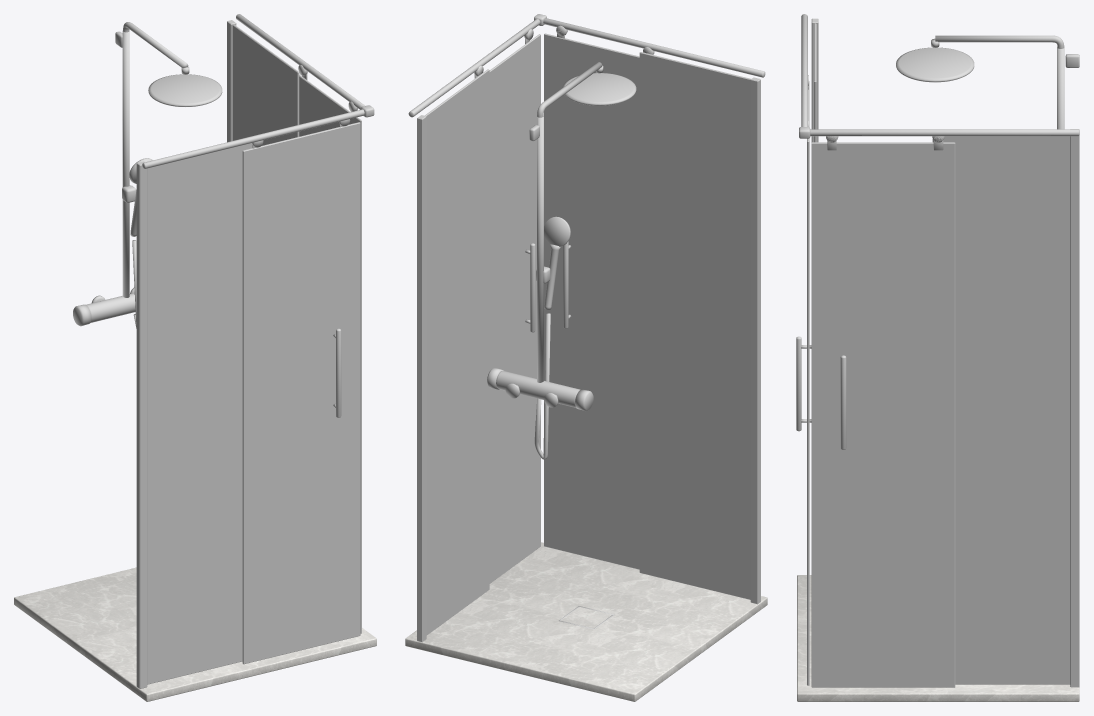
Rendered from ducha_angular_90x90.glb.
The picture shows the model from 3 angles, left to right: view 1: azimuth 30°, elevation 25°; view 2: azimuth 150°, elevation 25°; view 3: azimuth 270°, elevation 25°; orthographic projection. The views are drawn at different scales.
Parts seen in each view (by area): view 1: ducha_angular_90x90; view 2: ducha_angular_90x90; view 3: ducha_angular_90x90.
Boxes of the visible parts, left/top/right/bottom form: ducha_angular_90x90: left=14, top=14, right=376, bottom=701; ducha_angular_90x90: left=405, top=14, right=767, bottom=701; ducha_angular_90x90: left=796, top=14, right=1079, bottom=701.
Size of the model in its own units: 0.903 by 2.11 by 0.9033.
Materials: 3 (1 with a texture image).
